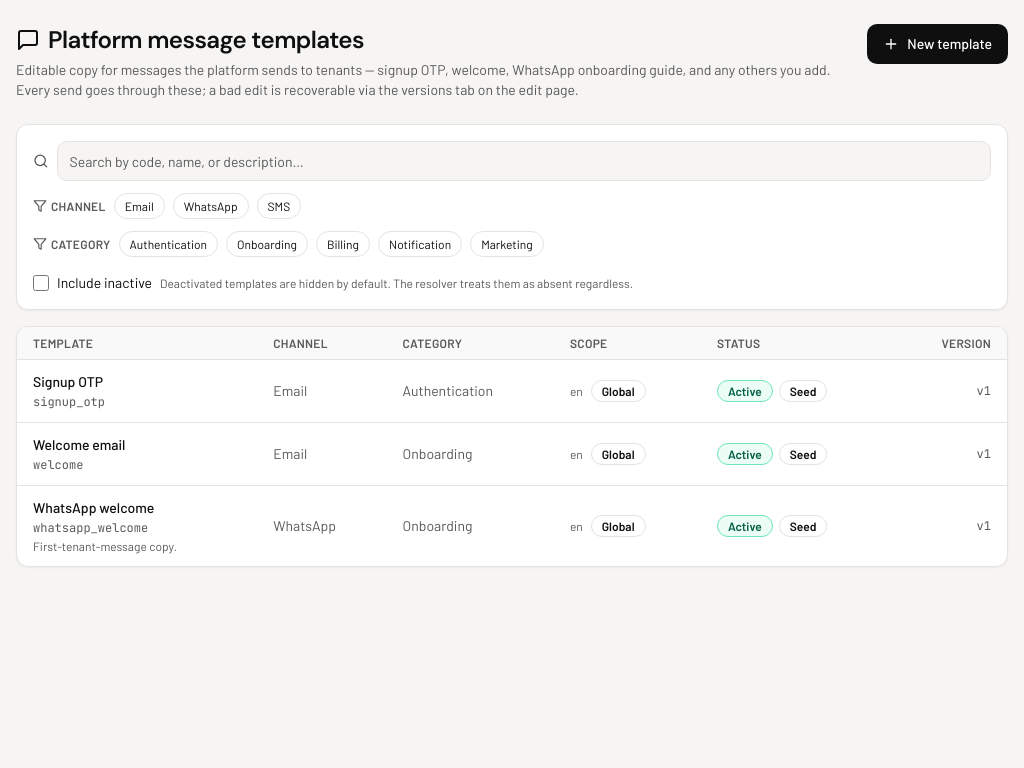
Test: filtering › empty-filter state offers Clear all filters
Expected: the text "Signup OTP" is shown, [33,373,103,390]
In the search field named "search templates": (524, 161) [57,141,991,181], type "xxxxxx"
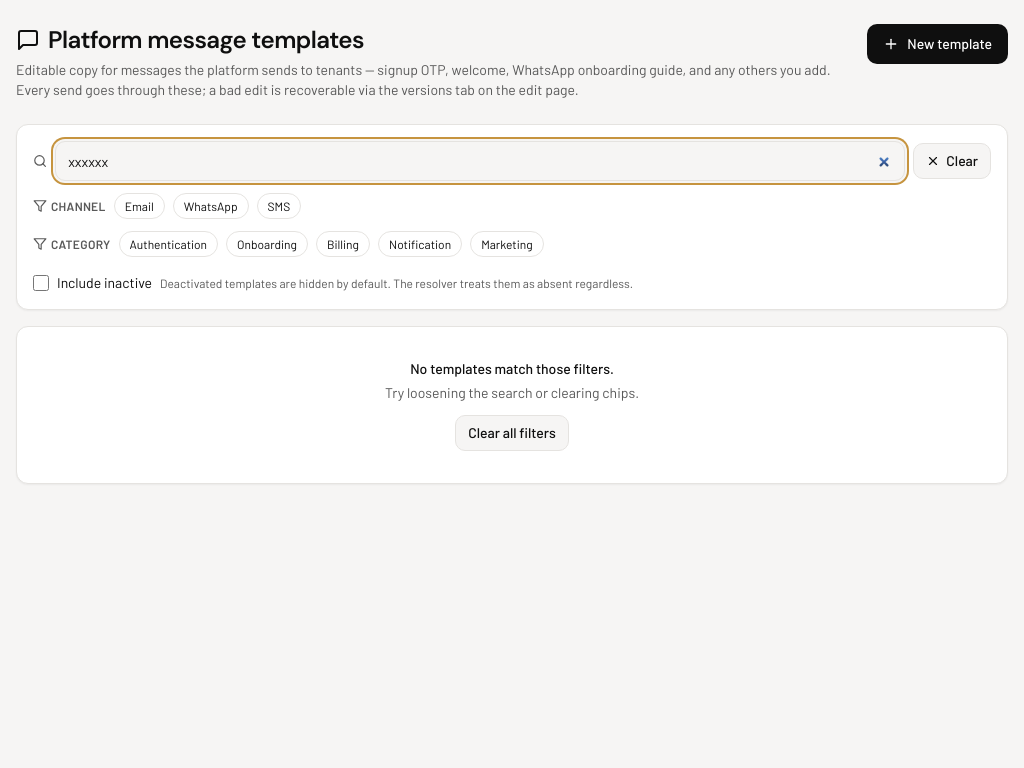
Result: the text "No templates match those filters." is shown at [410,360,614,377]
Click the button "Clear all filters": (512, 433) [455,415,569,451]
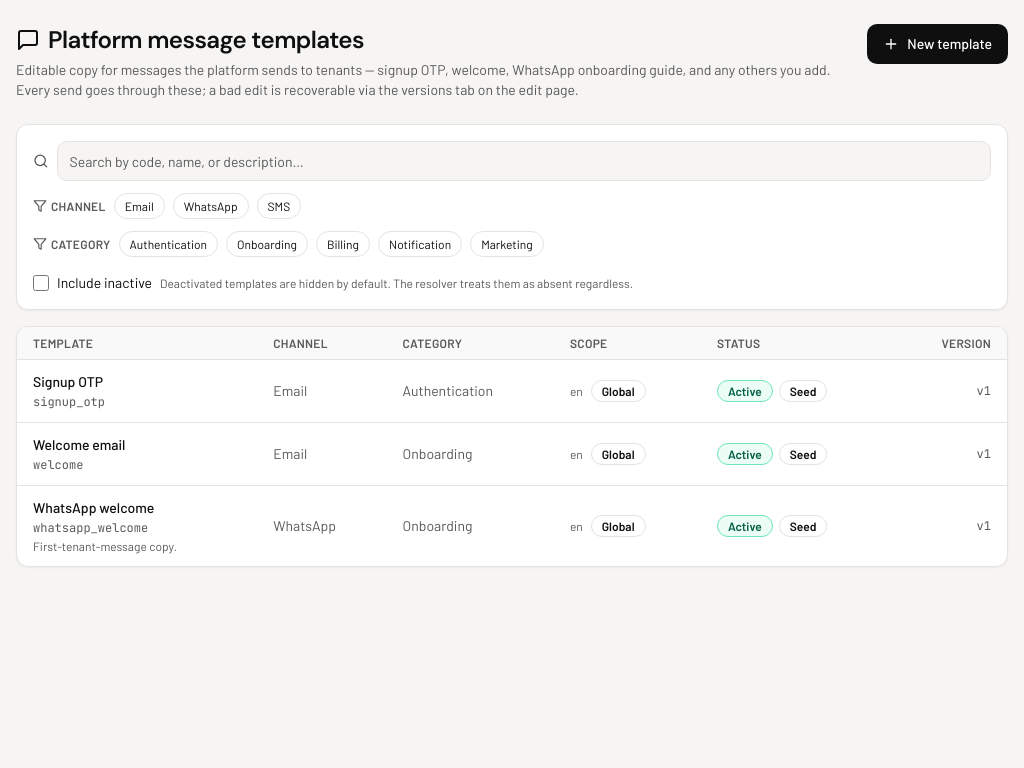
Result: the text "Signup OTP" is shown at [33,373,103,390]
